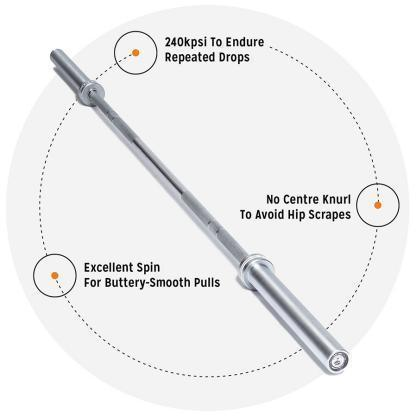Barbell: (321, 345, 356, 380)
